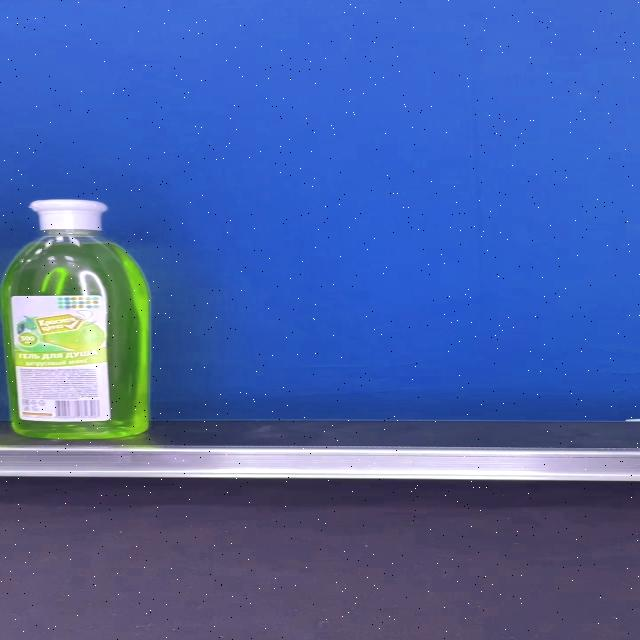Bottle: (3, 199, 151, 440)
Cap: (30, 199, 109, 231)
